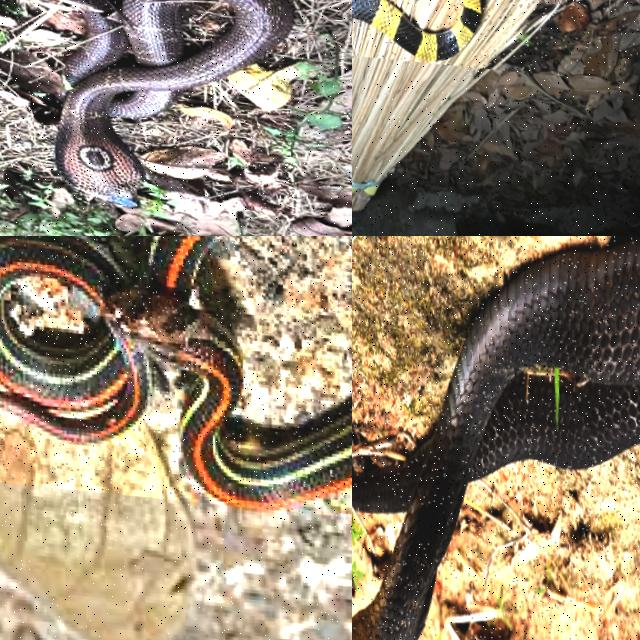Bungarus fasciatus: (352, 0, 476, 59)
Calliophis intestinalis: (0, 236, 351, 509)
Naja kaouthia: (54, 0, 293, 206)
Naja siamensis: (352, 237, 639, 639)
snake: (352, 237, 639, 639), (0, 236, 351, 509), (54, 0, 293, 206), (352, 0, 476, 59)
